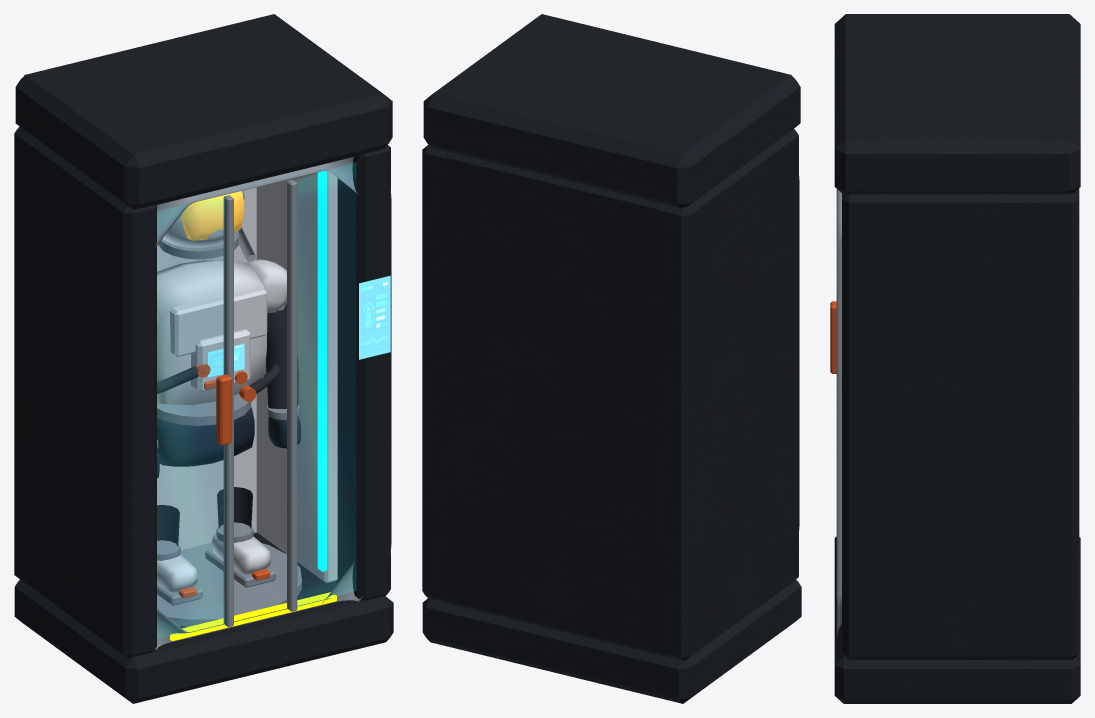
The model's file is locker_r1_01.glb.
3 views of the same model, side by side, from view 1: azimuth 30°, elevation 25°; view 2: azimuth 150°, elevation 25°; view 3: azimuth 270°, elevation 25° (orthographic). The views are drawn at different scales.
Visible parts, largest first — view 1: Locker01_CylindricalAirlockHull, Locker01_WhiteConcaveBayLiner, Locker01_PartedTranslucentGlassDoors, Locker01_RotaryGantryAndTracks, EVAKit_WhiteHelmetAndTorsoArmor, EVAKit_MachinedGantryRingsAndSoles, EVAKit_BallisticCharcoalSleevesAndHoses, Locker01_CyanLightPillars, EVAKit_OrbitalNavySuitLayers, Locker01_SideOLEDStatus, EVAKit_GoldIridiumBubbleVisor, Locker01_AmberBootHalo (+3 smaller); view 2: Locker01_CylindricalAirlockHull; view 3: Locker01_CylindricalAirlockHull, Locker01_RotaryGantryAndTracks, Locker01_SignalOrangeAirlockLatch.
Boxes of the visible parts, bbox=[...] form: Locker01_CylindricalAirlockHull: bbox=[14, 14, 393, 703]; Locker01_WhiteConcaveBayLiner: bbox=[157, 171, 337, 582]; Locker01_PartedTranslucentGlassDoors: bbox=[157, 163, 355, 638]; Locker01_RotaryGantryAndTracks: bbox=[155, 157, 391, 649]; EVAKit_WhiteHelmetAndTorsoArmor: bbox=[157, 214, 286, 592]; EVAKit_MachinedGantryRingsAndSoles: bbox=[157, 190, 299, 605]; EVAKit_BallisticCharcoalSleevesAndHoses: bbox=[157, 304, 298, 546]; Locker01_CyanLightPillars: bbox=[317, 170, 327, 571]; EVAKit_OrbitalNavySuitLayers: bbox=[157, 407, 301, 478]; Locker01_SideOLEDStatus: bbox=[359, 275, 390, 359]; EVAKit_GoldIridiumBubbleVisor: bbox=[181, 191, 244, 240]; Locker01_AmberBootHalo: bbox=[169, 592, 336, 641]; Locker01_CylindricalAirlockHull: bbox=[422, 14, 801, 703]; Locker01_CylindricalAirlockHull: bbox=[834, 14, 1080, 703]; Locker01_RotaryGantryAndTracks: bbox=[836, 189, 841, 634]; Locker01_SignalOrangeAirlockLatch: bbox=[830, 301, 836, 373].
Size of the model in its own units: 1.1 by 2.15 by 0.865.
Materials: 11 (11 with a texture image).
